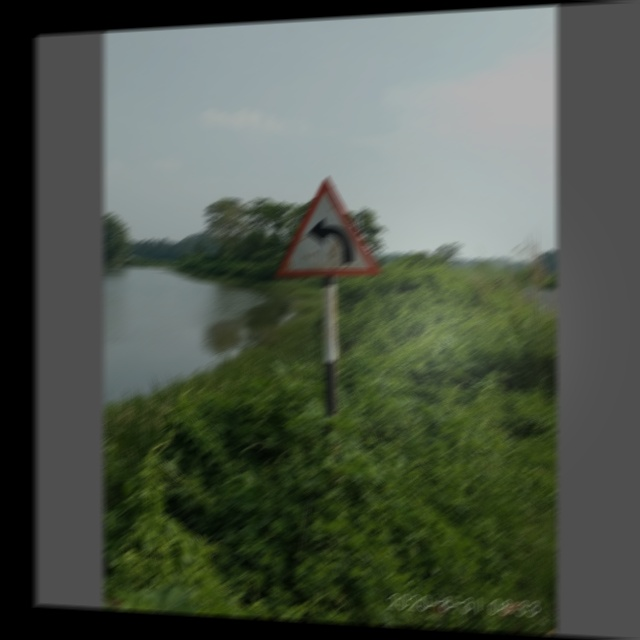Left_Hand_Curve: (270, 173, 382, 281)
